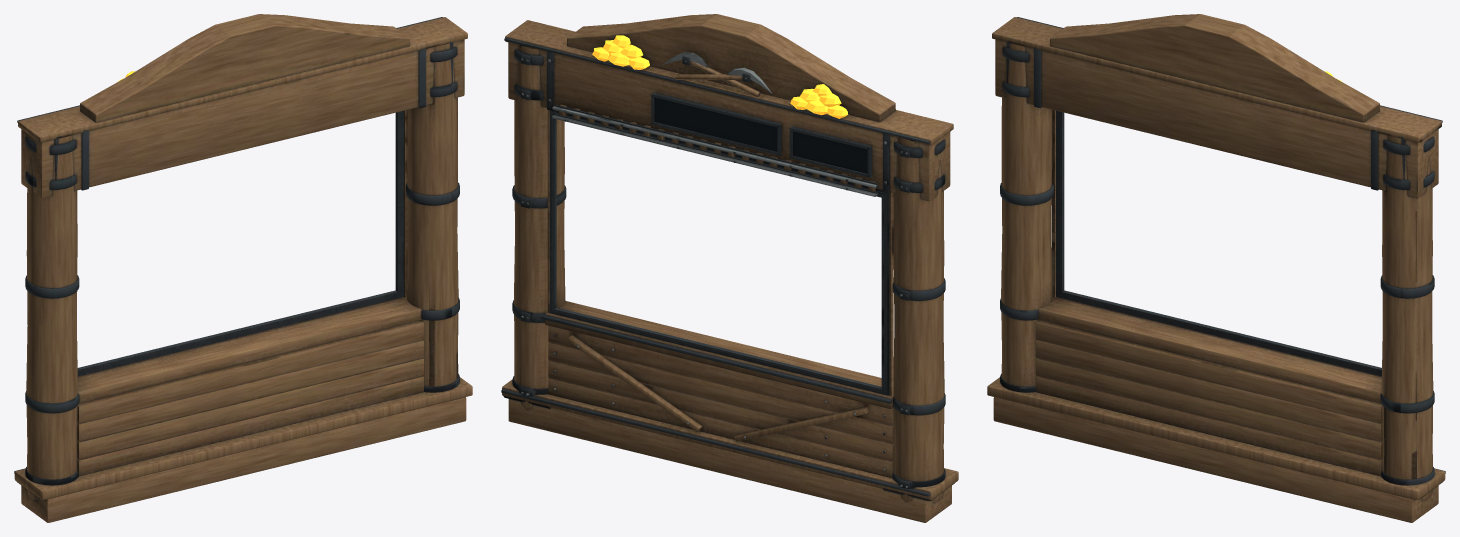
3 views of the same model, side by side, from view 1: azimuth 30°, elevation 25°; view 2: azimuth 150°, elevation 25°; view 3: azimuth 330°, elevation 25° (orthographic).
Visible parts, largest first — view 1: Warm_horizontal_timber, Weathered_upright_timber, Forged_iron; view 2: Warm_horizontal_timber, Weathered_upright_timber, Forged_iron, Uniform_dark_display, Worn_steel_edges, glow_native_gold; view 3: Warm_horizontal_timber, Weathered_upright_timber, Forged_iron.
Boxes of the visible parts, x1=… form: Warm_horizontal_timber: x1=21, y1=14, x2=466, y2=522; Weathered_upright_timber: x1=14, y1=17, x2=472, y2=501; Forged_iron: x1=14, y1=17, x2=459, y2=499; Warm_horizontal_timber: x1=508, y1=14, x2=951, y2=522; Weathered_upright_timber: x1=502, y1=20, x2=958, y2=503; Forged_iron: x1=501, y1=37, x2=954, y2=501; Uniform_dark_display: x1=654, y1=97, x2=867, y2=173; Worn_steel_edges: x1=520, y1=52, x2=907, y2=488; glow_native_gold: x1=592, y1=35, x2=848, y2=118; Warm_horizontal_timber: x1=993, y1=14, x2=1438, y2=522; Weathered_upright_timber: x1=987, y1=17, x2=1445, y2=501; Forged_iron: x1=1000, y1=17, x2=1445, y2=499.
Bounding box in the file's own units: 10.7 × 10.4 × 1.33.
Materials: 6 (6 with a texture image).
